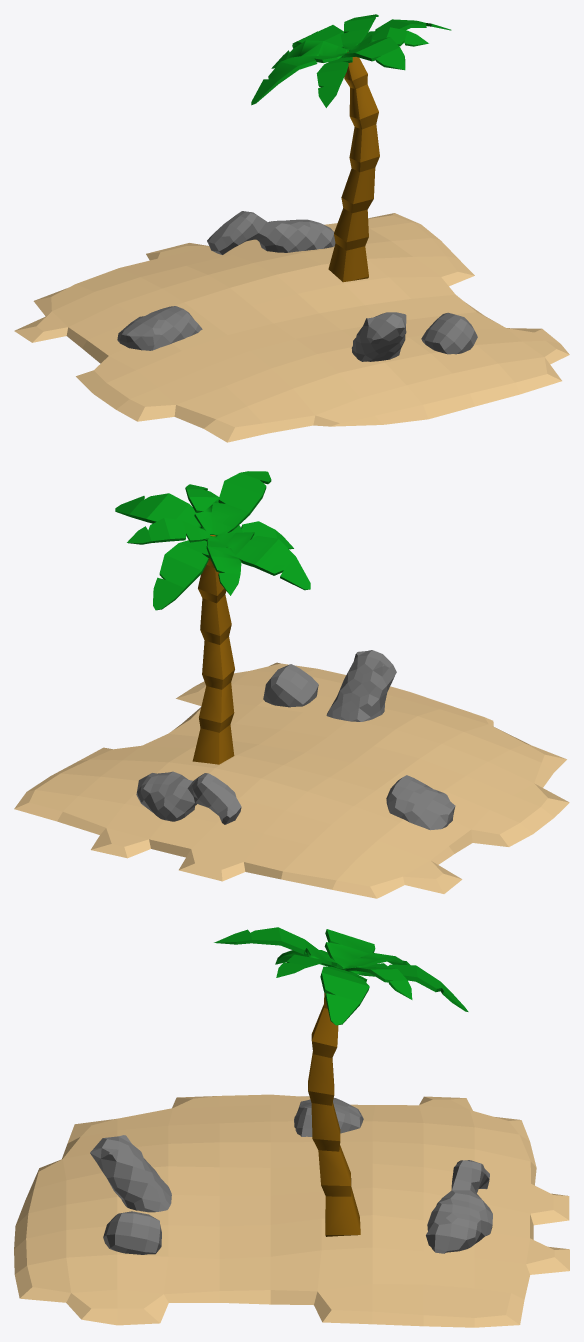
Rendered from island(LOD_1).fbx.
3 renders of one model, top to bottom at view 1: azimuth 30°, elevation 25°; view 2: azimuth 150°, elevation 25°; view 3: azimuth 270°, elevation 25°, orthographic. The views are drawn at different scales.
Parts seen in each view (by area): view 1: Остров.001, Куб.008, palm_leaf.001, palm_log.001; view 2: Остров.001, palm_leaf.001, Куб.008, palm_log.001; view 3: Остров.001, Куб.008, palm_leaf.001, palm_log.001.
Part boxes in pixels (box(x1,y1,x2,y2)): Остров.001: box(14, 213, 569, 442); Куб.008: box(117, 211, 477, 361); palm_leaf.001: box(251, 14, 451, 107); palm_log.001: box(328, 52, 379, 282); Остров.001: box(14, 662, 569, 898); palm_leaf.001: box(115, 471, 310, 610); Куб.008: box(136, 650, 455, 830); palm_log.001: box(192, 535, 234, 764); Остров.001: box(14, 1094, 569, 1327); Куб.008: box(90, 1098, 492, 1254); palm_leaf.001: box(214, 927, 468, 1025); palm_log.001: box(308, 993, 360, 1236).
Bounding box in the file's own units: 1498 × 995 × 1487.
